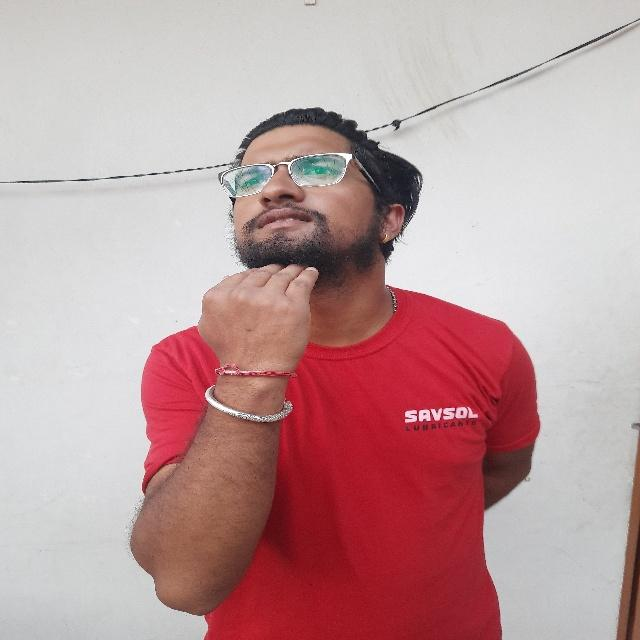Chin Flick: (182, 102, 428, 390)
